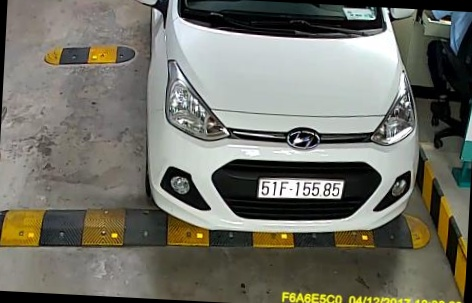plate: (256, 171, 348, 204)
